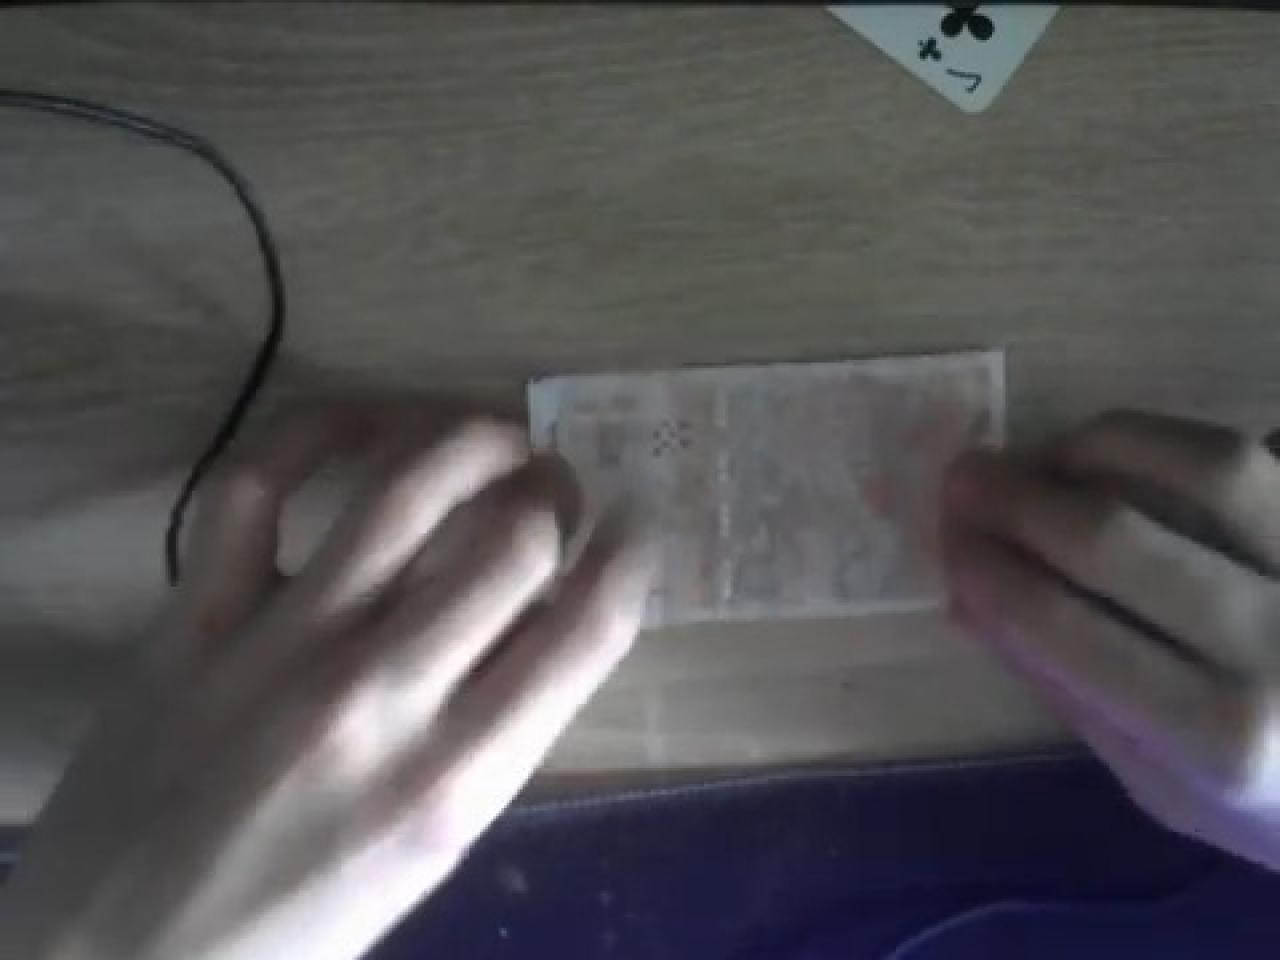5leva: (523, 344, 1008, 629)
